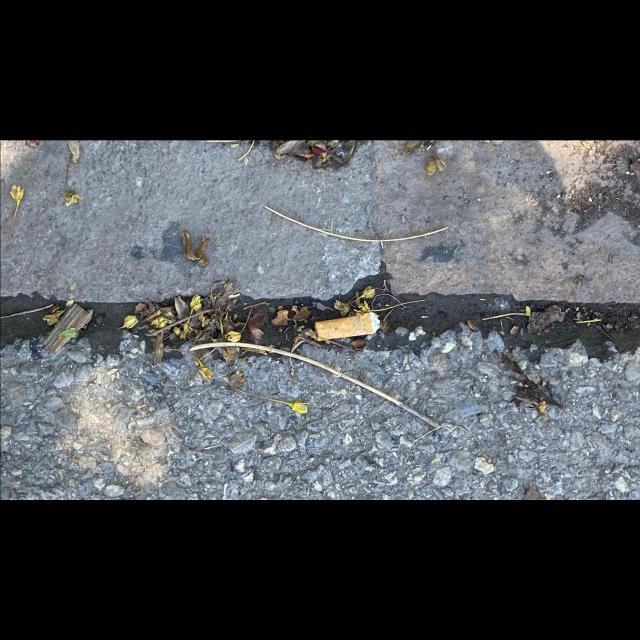cigarette: (314, 311, 380, 341)
